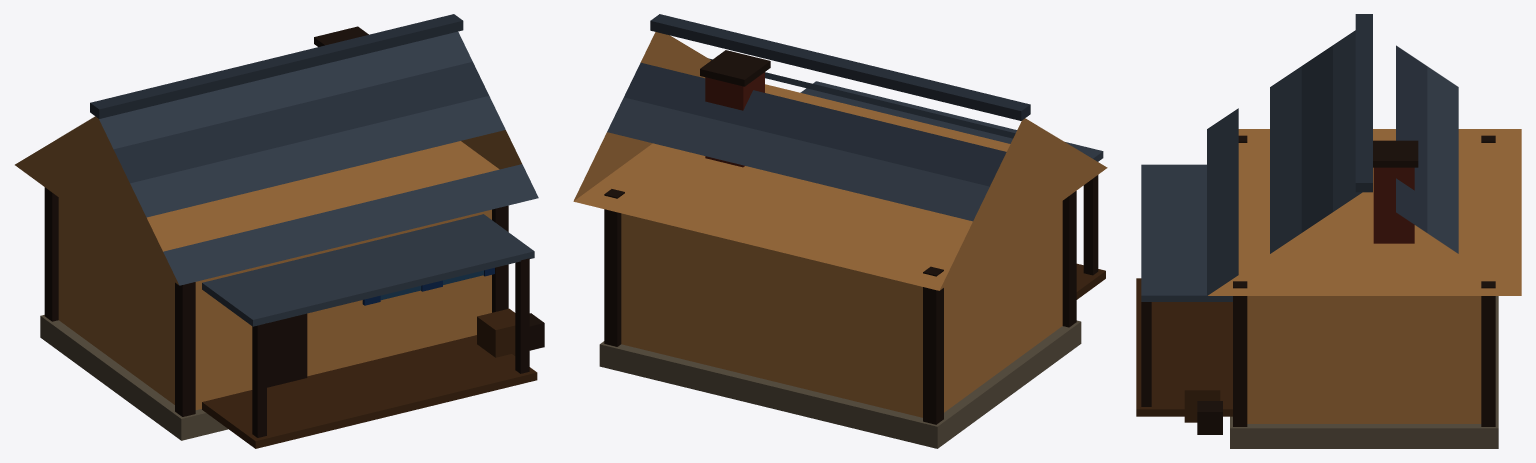
The model's file is coast-house-c.glb.
3 renders of one model, left to right at view 1: azimuth 30°, elevation 25°; view 2: azimuth 150°, elevation 25°; view 3: azimuth 270°, elevation 25°, orthographic. The views are drawn at different scales.
Visible parts, largest first — view 1: house-c; view 2: house-c; view 3: house-c.
Part boxes in pixels (x1,y1,x2,y2): house-c: [15, 14, 544, 448]; house-c: [573, 14, 1107, 448]; house-c: [1136, 14, 1521, 448].
Bounding box in the file's own units: 7.85 × 5.92 × 7.56.
